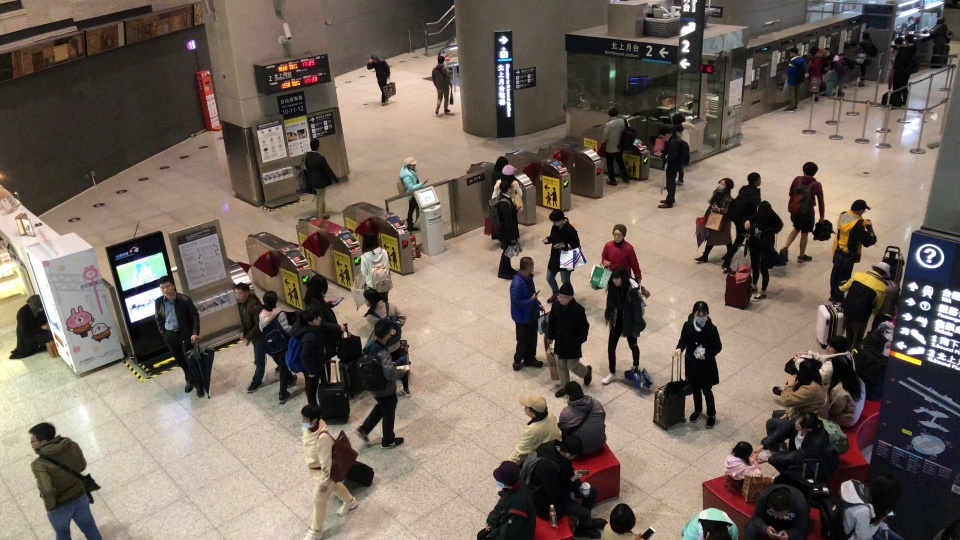person_head: (870, 472, 901, 511), (609, 502, 636, 535), (27, 421, 56, 449), (493, 460, 521, 488), (519, 392, 547, 418), (767, 488, 791, 516), (560, 435, 583, 461), (831, 355, 853, 382), (372, 318, 392, 346), (799, 360, 821, 385), (299, 404, 320, 430), (555, 381, 584, 399), (794, 411, 819, 431), (824, 335, 848, 355), (732, 441, 753, 463), (307, 274, 328, 295), (157, 274, 175, 297), (610, 266, 628, 288), (233, 281, 250, 304), (303, 307, 322, 327), (361, 232, 378, 254), (557, 282, 574, 304), (692, 300, 709, 322), (849, 199, 870, 216), (261, 290, 278, 310), (363, 288, 380, 308), (756, 199, 773, 218), (872, 260, 891, 277), (707, 525, 730, 539), (802, 161, 819, 179), (548, 208, 564, 227), (519, 256, 534, 276), (500, 165, 517, 182), (716, 177, 734, 193), (494, 155, 509, 173), (613, 222, 627, 241), (746, 171, 762, 187), (27, 294, 42, 311), (498, 179, 513, 194), (405, 155, 418, 169), (657, 126, 670, 140), (672, 112, 686, 125), (309, 138, 320, 152), (892, 36, 906, 47), (607, 106, 619, 118), (808, 45, 819, 58), (860, 30, 872, 40), (788, 46, 798, 57), (436, 55, 445, 65), (370, 53, 378, 63), (936, 16, 944, 24), (828, 53, 835, 62)
person_vbox: (520, 435, 608, 539), (26, 421, 101, 540), (298, 404, 359, 540), (353, 318, 406, 448), (754, 410, 848, 479), (153, 274, 205, 398), (673, 300, 721, 429), (598, 265, 647, 386), (764, 360, 828, 451), (819, 472, 904, 539), (361, 288, 412, 398), (233, 280, 280, 393), (547, 282, 592, 398), (771, 335, 855, 397), (828, 199, 877, 302), (779, 161, 825, 265), (837, 260, 891, 346), (258, 290, 298, 404), (743, 473, 813, 538), (741, 199, 784, 301), (284, 307, 327, 408), (484, 459, 537, 539), (508, 256, 544, 371), (720, 171, 761, 271), (506, 393, 562, 465), (554, 380, 607, 455), (542, 207, 581, 303), (294, 137, 339, 218), (303, 274, 347, 355), (692, 177, 733, 263), (486, 178, 520, 281), (825, 355, 867, 427), (7, 293, 52, 360), (656, 126, 691, 207), (602, 105, 636, 185), (600, 223, 643, 285), (397, 155, 427, 232), (359, 232, 391, 303), (892, 36, 920, 107), (679, 507, 739, 539), (723, 440, 761, 490), (671, 113, 697, 183), (601, 502, 650, 539), (783, 46, 807, 114), (491, 164, 523, 208), (807, 45, 830, 105), (365, 52, 391, 105), (431, 55, 453, 115), (855, 30, 878, 87), (828, 52, 855, 99), (931, 16, 954, 44), (491, 155, 509, 187)
